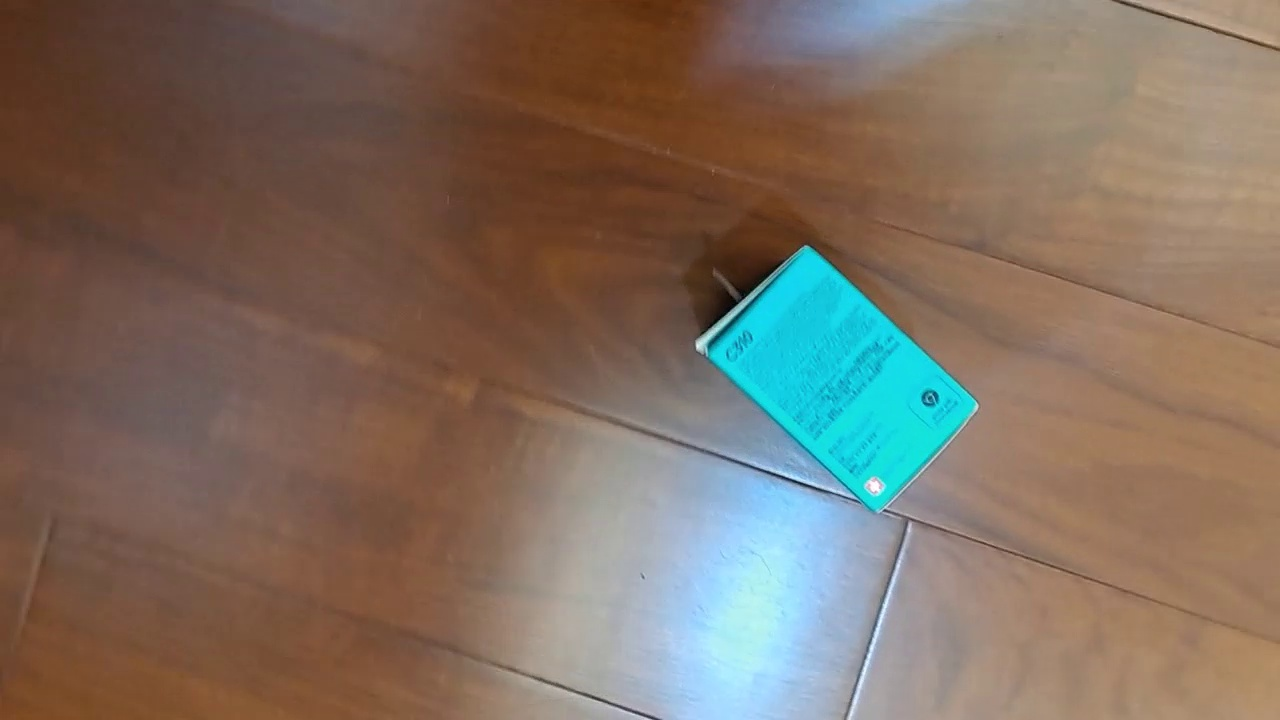webcam: (692, 241, 983, 518)
